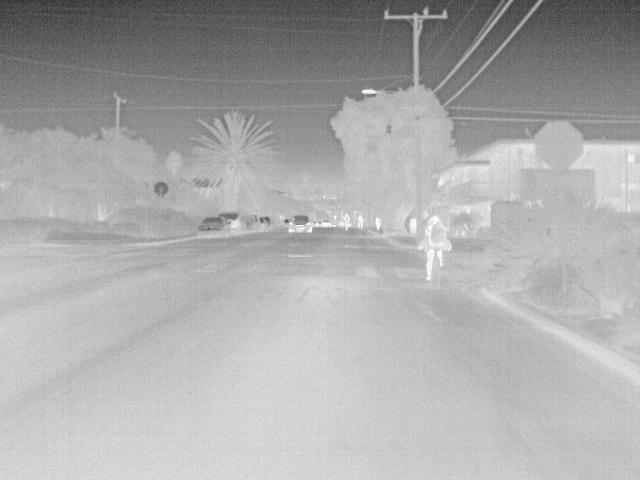car: (195, 214, 232, 242), (287, 214, 313, 233), (220, 214, 245, 233), (238, 214, 256, 234), (262, 214, 275, 232), (255, 216, 267, 232), (320, 219, 333, 229)
person: (420, 215, 448, 279), (340, 210, 352, 231), (355, 213, 364, 232), (373, 214, 382, 232)
